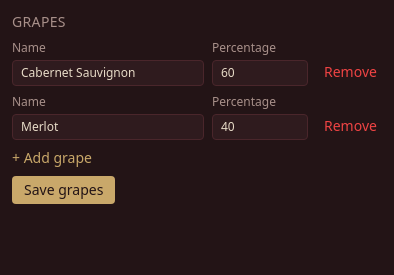
Scenario: GrapesSection › adds a blank row
Click the button "+ Add grape".
click(52, 158)  # box [12,148,92,168]
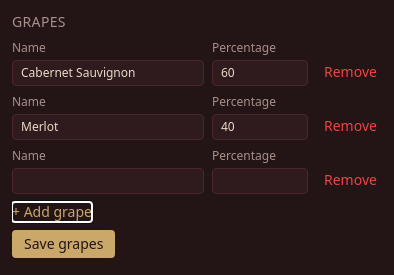
Expected: the number of fields labelled "Name" is 3, [12,60,204,86]; [12,114,204,140]; [12,168,204,194]
